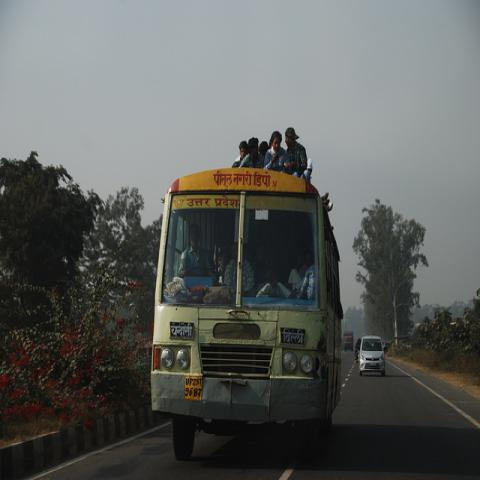bus: (151, 170, 341, 461)
car: (359, 335, 387, 377)
